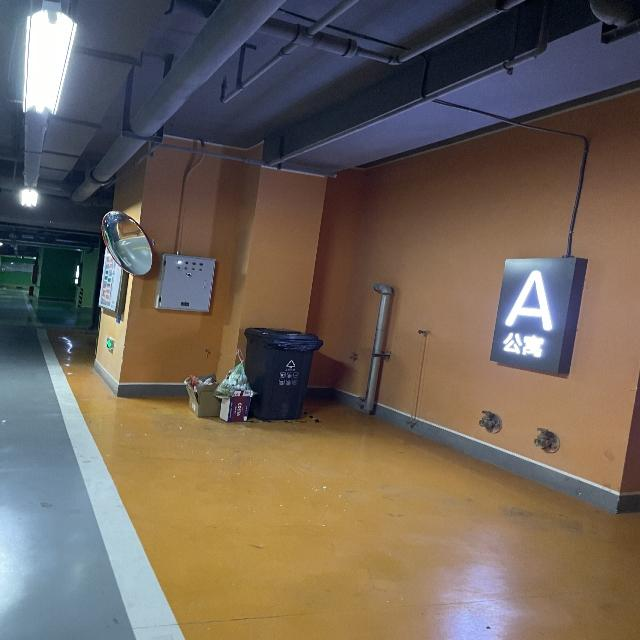garbage: (185, 349, 256, 422)
garbage_bin: (241, 326, 323, 419)
